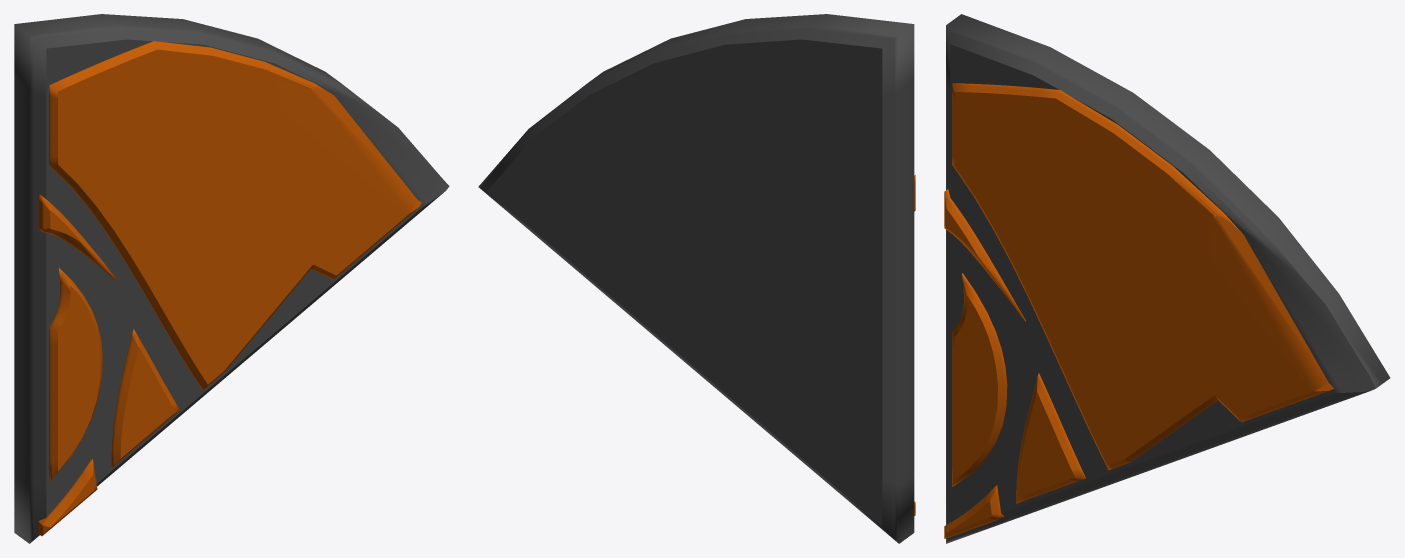
The model's file is stele_piece_01.fbx.
3 views of the same model, side by side, from view 1: azimuth 30°, elevation 25°; view 2: azimuth 150°, elevation 25°; view 3: azimuth 330°, elevation 25° (orthographic).
Parts seen in each view (by area): view 1: stele_v5_Depa_profile_polySurface26, polySurface50, stele_v5_Depa_profile_polySurface13, stele_v5_Depa_profile_polySurface25, stele_v5_Depa_profile_polySurface12, stele_v5_Depa_profile_polySurface14; view 2: polySurface50; view 3: stele_v5_Depa_profile_polySurface26, polySurface50, stele_v5_Depa_profile_polySurface13, stele_v5_Depa_profile_polySurface25, stele_v5_Depa_profile_polySurface12, stele_v5_Depa_profile_polySurface14.
Part boxes in pixels (x1,y1,x2,y2): stele_v5_Depa_profile_polySurface26: [49, 41, 421, 389]; polySurface50: [14, 14, 449, 543]; stele_v5_Depa_profile_polySurface13: [49, 267, 102, 481]; stele_v5_Depa_profile_polySurface25: [111, 329, 179, 467]; stele_v5_Depa_profile_polySurface12: [38, 193, 120, 283]; stele_v5_Depa_profile_polySurface14: [38, 459, 97, 536]; polySurface50: [478, 14, 914, 543]; stele_v5_Depa_profile_polySurface26: [952, 83, 1333, 469]; polySurface50: [946, 14, 1390, 543]; stele_v5_Depa_profile_polySurface13: [952, 273, 1007, 486]; stele_v5_Depa_profile_polySurface25: [1016, 373, 1085, 503]; stele_v5_Depa_profile_polySurface12: [944, 189, 1025, 321]; stele_v5_Depa_profile_polySurface14: [944, 485, 1003, 538].
Size of the model in its own units: 3.99 by 4.61 by 0.5135.
